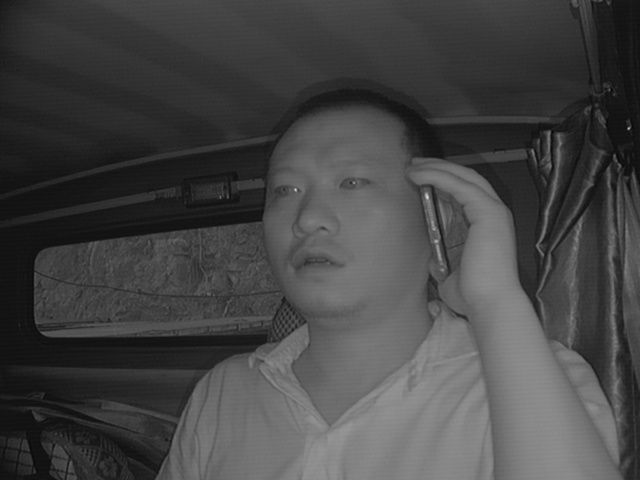hand: (406, 153, 519, 316)
